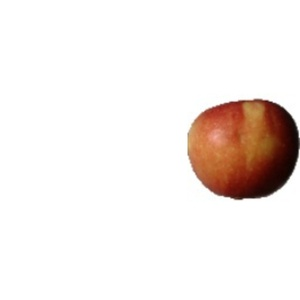maçã braeburn: (183, 94, 299, 203)
